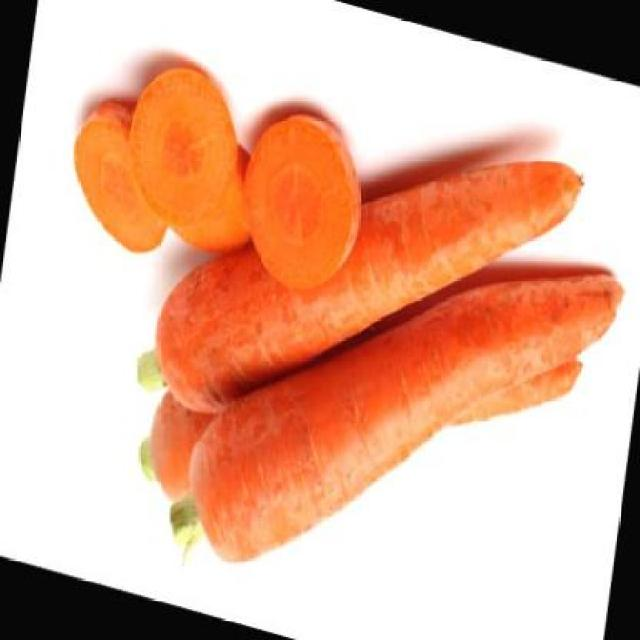carrot: (177, 163, 628, 639), (145, 55, 586, 508), (444, 322, 584, 463), (142, 385, 218, 507)
